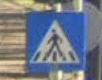trecere_pietoni: (25, 9, 87, 73)
